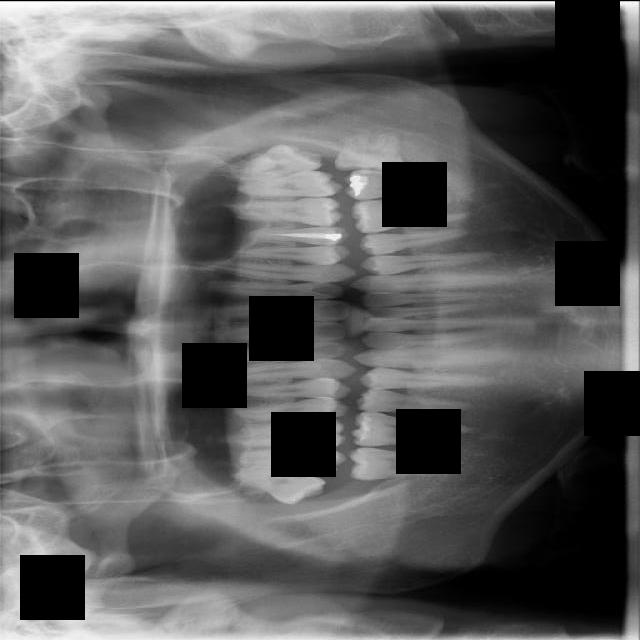3M ESPE Implant: (229, 458, 327, 510)
52: (344, 168, 387, 201), (307, 225, 349, 245)
73: (249, 225, 312, 243), (586, 34, 596, 38)
BioHorizons Implant: (237, 170, 342, 196)
BioLife Implant: (219, 136, 325, 186)
Biomet 3i Implant: (331, 128, 407, 179)
Blue Sky Bio Implant: (345, 168, 453, 199)
Caries: (240, 446, 348, 478)
Implant: (349, 441, 460, 480)
